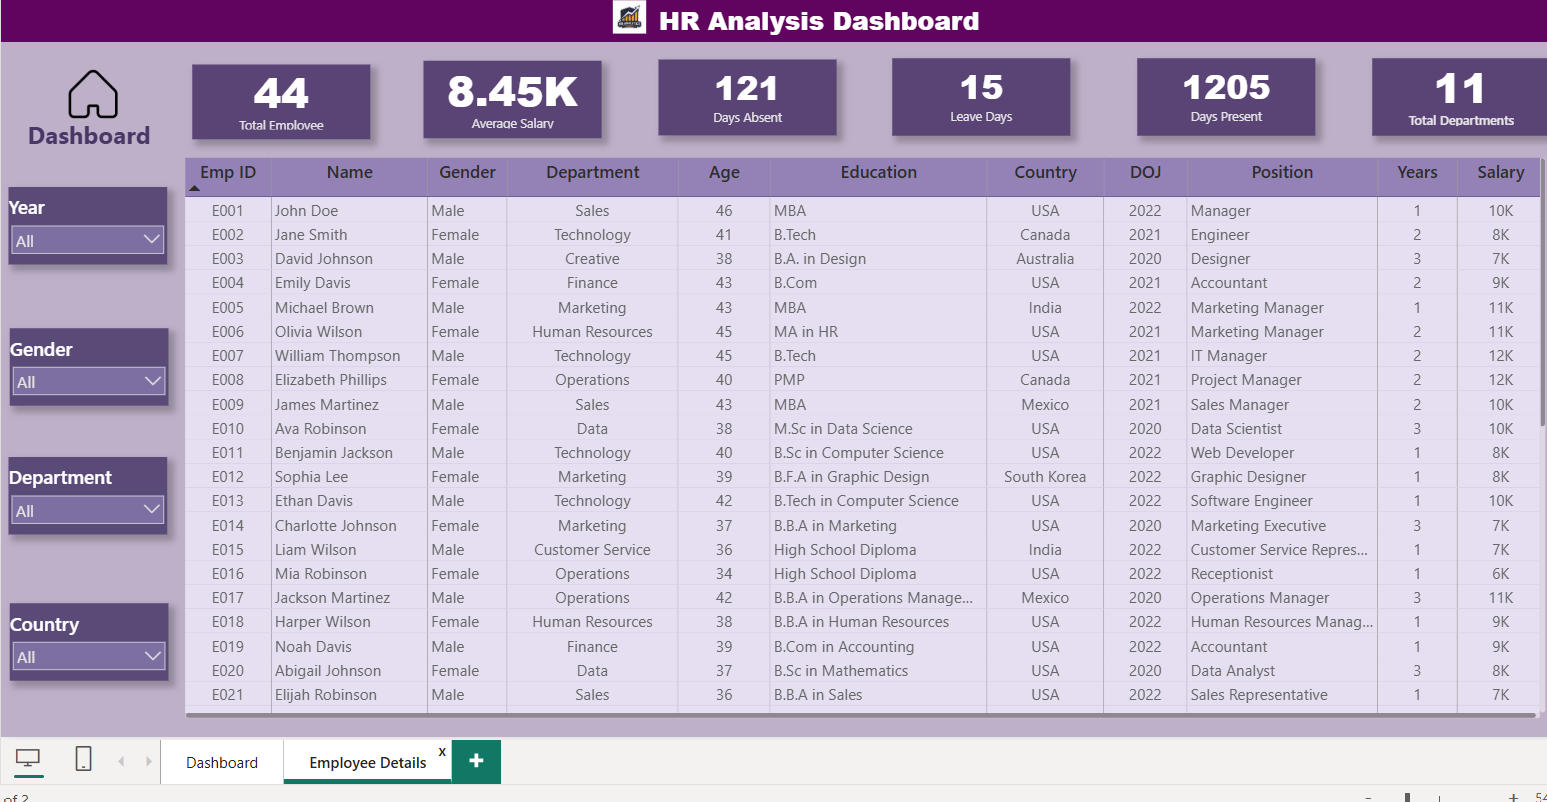

The dashboard page shown, as its layout file describes it:
{"tool":"powerbi","page":{"name":"Employee Details","canvas":[2321,1100],"ordinal":1},"visuals":[{"type":"card","title":"Total Employee","fields":{"Values":["Count(Employee Details.Employee ID)"]},"box":[284.7,100,265.1,110.8],"z":0},{"type":"card","title":"Average Salary of Employee","fields":{"Values":["Avg(Employee Details.Salary)"]},"box":[628.1,95.6,265.1,115.2],"z":1000},{"type":"card","title":"Total Departments","fields":{"Values":["Count(Employee Details.Department)"]},"box":[2038.5,91.3,265.1,115.2],"z":2000},{"type":"textbox","box":[0,3.7,2321.4,63.2],"z":3000},{"type":"image","box":[892.1,0,85.5,59.5],"z":4000},{"type":"slicer","title":"Year","fields":{"Values":["Employee Details.Date of Join"]},"box":[11.2,282.5,236,115.2],"z":5000},{"type":"slicer","title":"Gender","fields":{"Values":["Employee Details.Gender"]},"box":[13,492.5,236,115.2],"z":6000},{"type":"slicer","title":"Department","fields":{"Values":["Employee Details.Department"]},"box":[11.2,684,236,115.2],"z":7000},{"type":"slicer","title":"Country","fields":{"Values":["Employee Details.Country"]},"box":[13,901.4,236,115.2],"z":8000},{"type":"card","fields":{"Values":["Sum(Employee Details.Days Absent)"]},"box":[977.9,93.4,265.1,113],"z":9000},{"type":"card","fields":{"Values":["Sum(Employee Details.Leave Days)"]},"box":[1325.7,91.3,265.1,115.2],"z":10000},{"type":"card","fields":{"Values":["Sum(Employee Details.Days Present)"]},"box":[1688.6,91.3,265.1,115.2],"z":11000},{"type":"tableEx","fields":{"Values":["Employee Details.Employee ID","Employee Details.Name","Employee Details.Gender","Employee Details.Department","Sum(Employee Details.Age)","Employee Details.Education Qualifications","Employee Details.Country","Sum(Employee Details.Date of Join)","Employee Details.Position","Sum(Employee Details.Experience Years)","Sum(Employee Details.Salary)"]},"box":[267.6,234.2,2035.2,843.8],"z":12000},{"type":"actionButton","box":[13,148.7,236,109.7],"z":12001},{"type":"image","box":[79.9,91.1,100.4,105.9],"z":12002}]}

Visuals, with their boxes on the page's 2321x1100 design canvas (x1, y1, x2, y2). These are canvas units, not pixel positions in the 1547x802 screenshot, which may show the page scaled, cropped or inside an application window:
"Total Employee" card: locate(285, 100, 550, 211)
"Average Salary of Employee" card: locate(628, 96, 893, 211)
"Total Departments" card: locate(2038, 91, 2304, 206)
textbox: locate(0, 4, 2321, 67)
image: locate(892, 0, 978, 60)
"Year" slicer: locate(11, 282, 247, 398)
"Gender" slicer: locate(13, 492, 249, 608)
"Department" slicer: locate(11, 684, 247, 799)
"Country" slicer: locate(13, 901, 249, 1017)
card - Sum(Employee Details.Days Absent): locate(978, 93, 1243, 206)
card - Sum(Employee Details.Leave Days): locate(1326, 91, 1591, 206)
card - Sum(Employee Details.Days Present): locate(1689, 91, 1954, 206)
tableEx - Employee Details.Employee ID x Employee Details.Name: locate(268, 234, 2303, 1078)
actionButton: locate(13, 149, 249, 258)
image: locate(80, 91, 180, 197)
